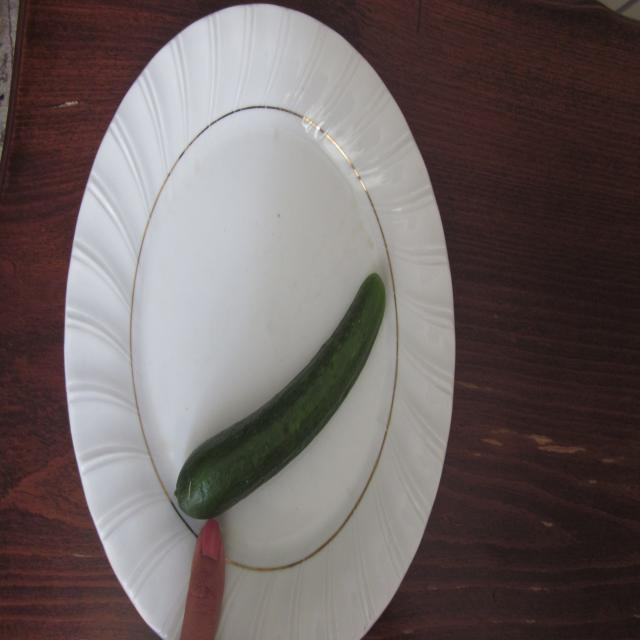cucumber: (156, 265, 400, 522)
